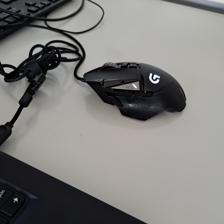mouse: (82, 59, 186, 121)
